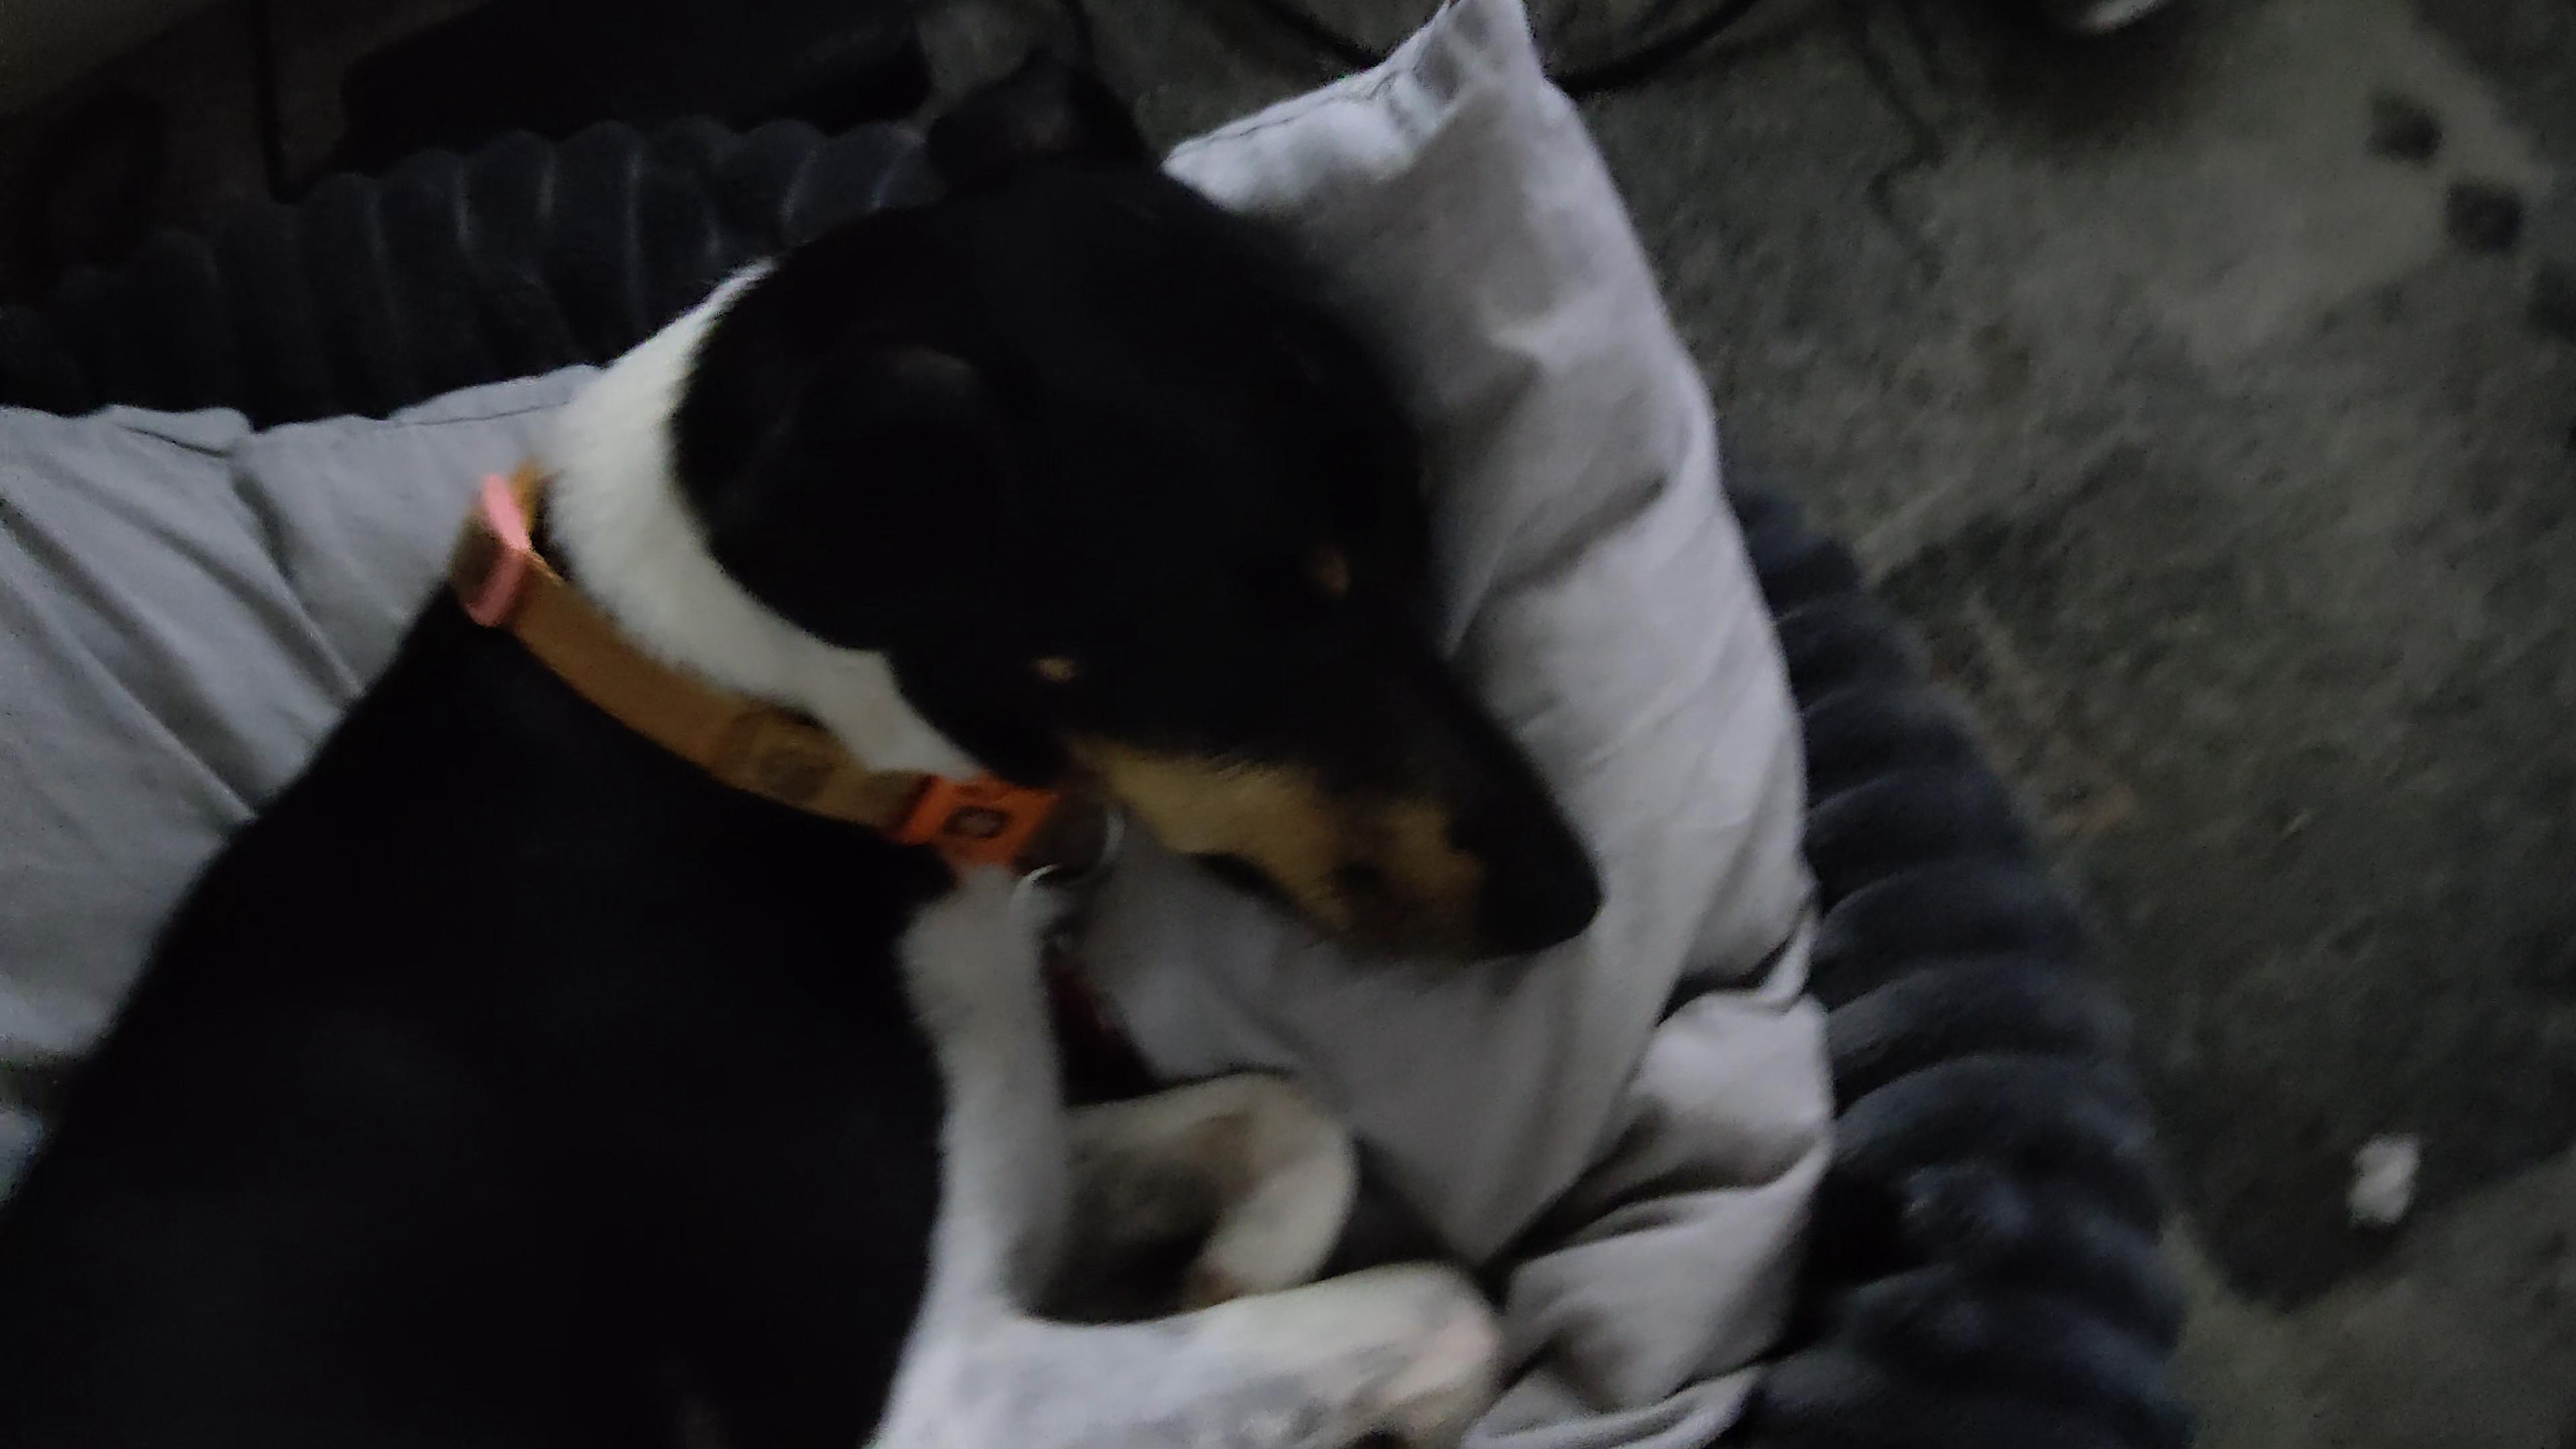Dog: (0, 0, 1631, 1449)
